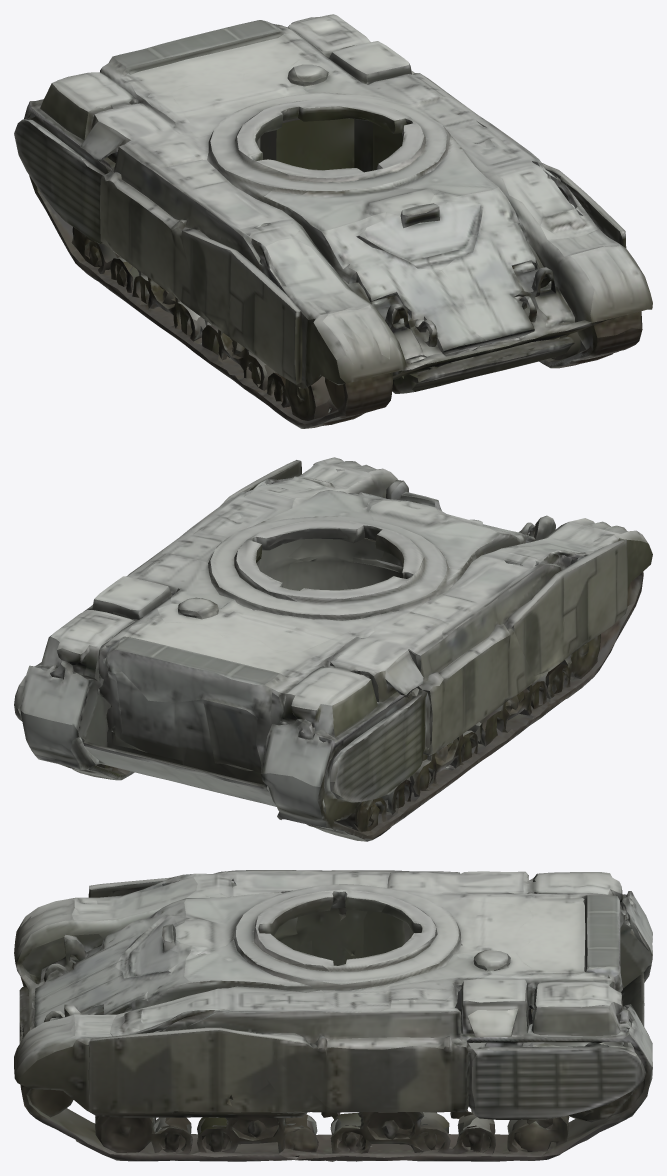
The model's file is heavy_hull_parts.glb.
3 renders of one model, top to bottom at view 1: azimuth 30°, elevation 25°; view 2: azimuth 150°, elevation 25°; view 3: azimuth 270°, elevation 25°, orthographic. The views are drawn at different scales.
Size of the model in its own units: 7.5 by 3.66 by 12.72.
Materials: 4 (4 with a texture image).
